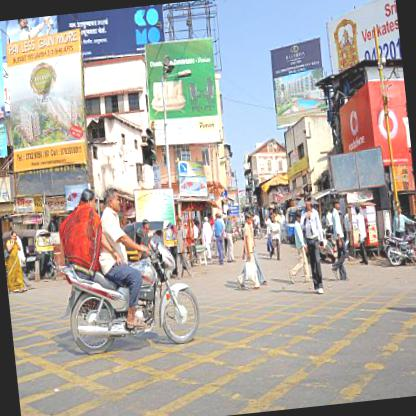motorcycle: (52, 178, 204, 358), (379, 205, 415, 269)
